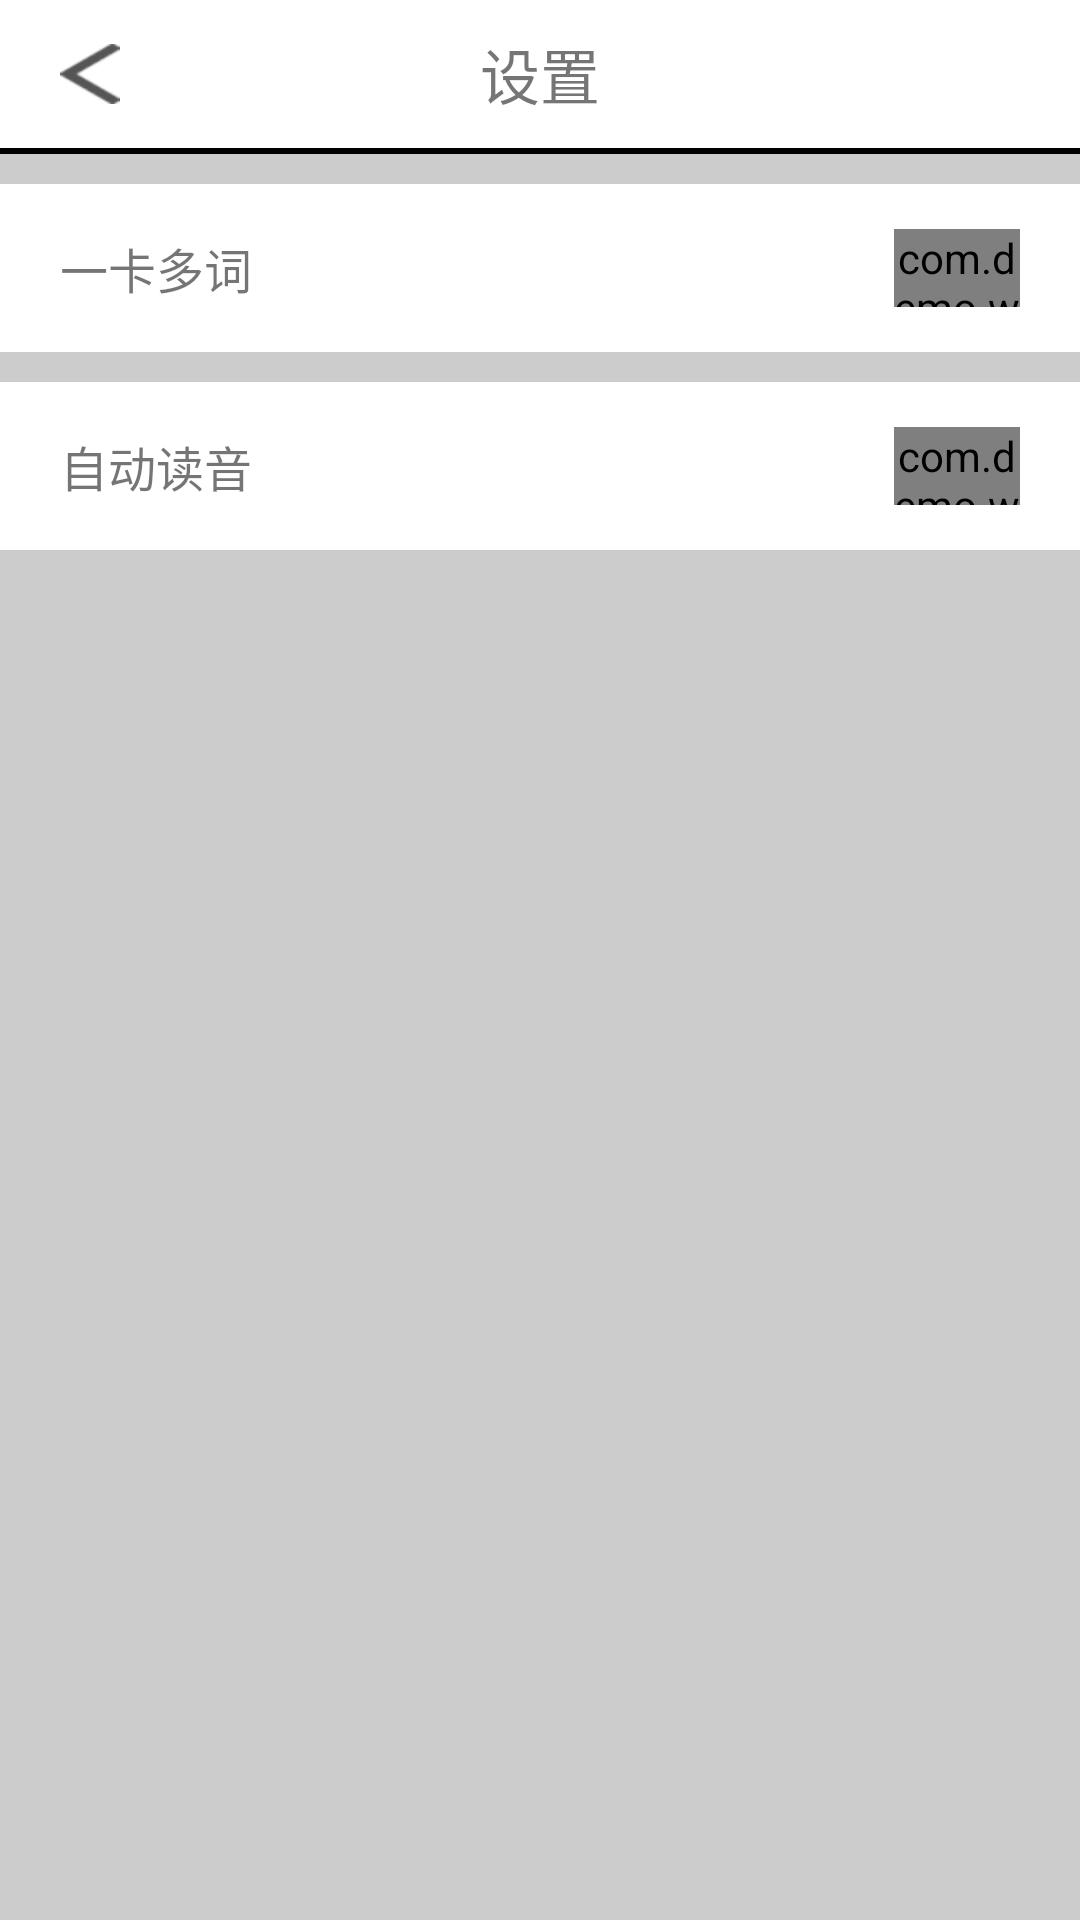

Icons on this 1080×1920 Android screen, each with the point to tap as (x=x, y=y):
back: (x=90, y=74)
